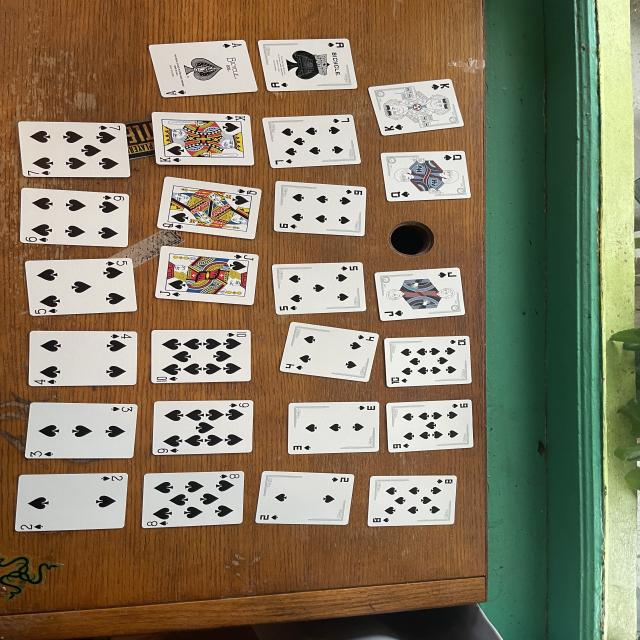10 of spades: (152, 330, 252, 384), (383, 336, 472, 388)
2 of spades: (15, 472, 128, 531), (255, 471, 355, 525)
3 of spades: (25, 402, 137, 459), (288, 401, 380, 455)
4 of spades: (28, 331, 137, 386), (280, 322, 378, 381)
5 of spades: (25, 259, 137, 316), (272, 262, 367, 315)
6 of spades: (20, 188, 130, 248), (273, 181, 367, 236)
7 of spades: (18, 121, 130, 178), (263, 115, 362, 168)
8 of spades: (142, 471, 245, 529), (367, 475, 457, 526)
9 of spades: (152, 400, 253, 455), (387, 399, 473, 452)
Ace of spades: (148, 40, 257, 98), (258, 39, 358, 91)
Jack of spades: (155, 248, 258, 305), (375, 268, 465, 321)
King of spades: (152, 112, 253, 166), (368, 79, 463, 135)
Queen of spades: (157, 178, 262, 239), (380, 151, 470, 201)
